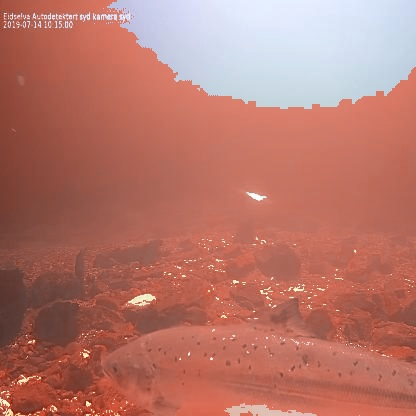salmon: (96, 294, 416, 416)
